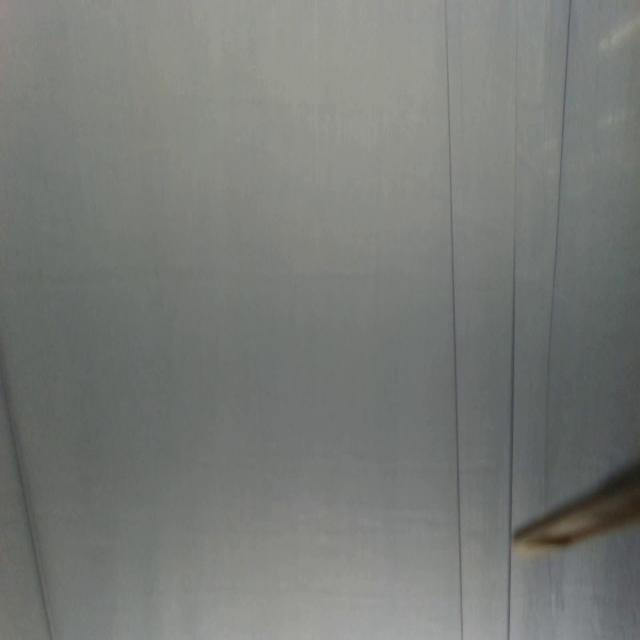crease: (541, 0, 573, 499), (0, 358, 52, 640), (444, 0, 464, 640), (506, 1, 519, 640)
